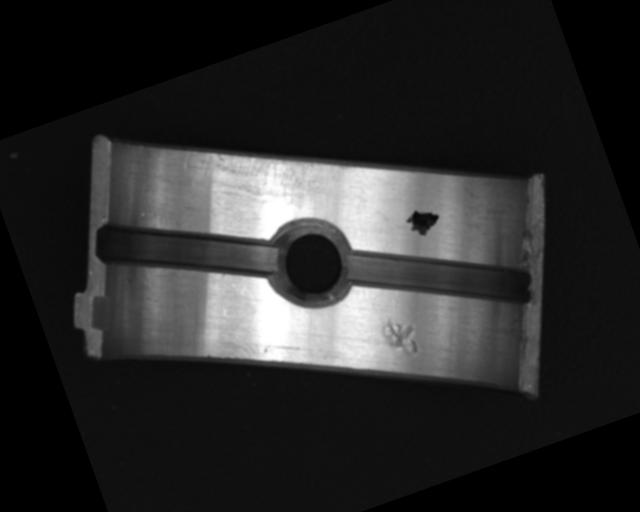blot: (402, 202, 445, 243)
bruise: (375, 307, 426, 364)
gap: (86, 174, 284, 332), (341, 200, 536, 356)
hole: (262, 207, 360, 319)
scratch: (178, 106, 338, 242)
